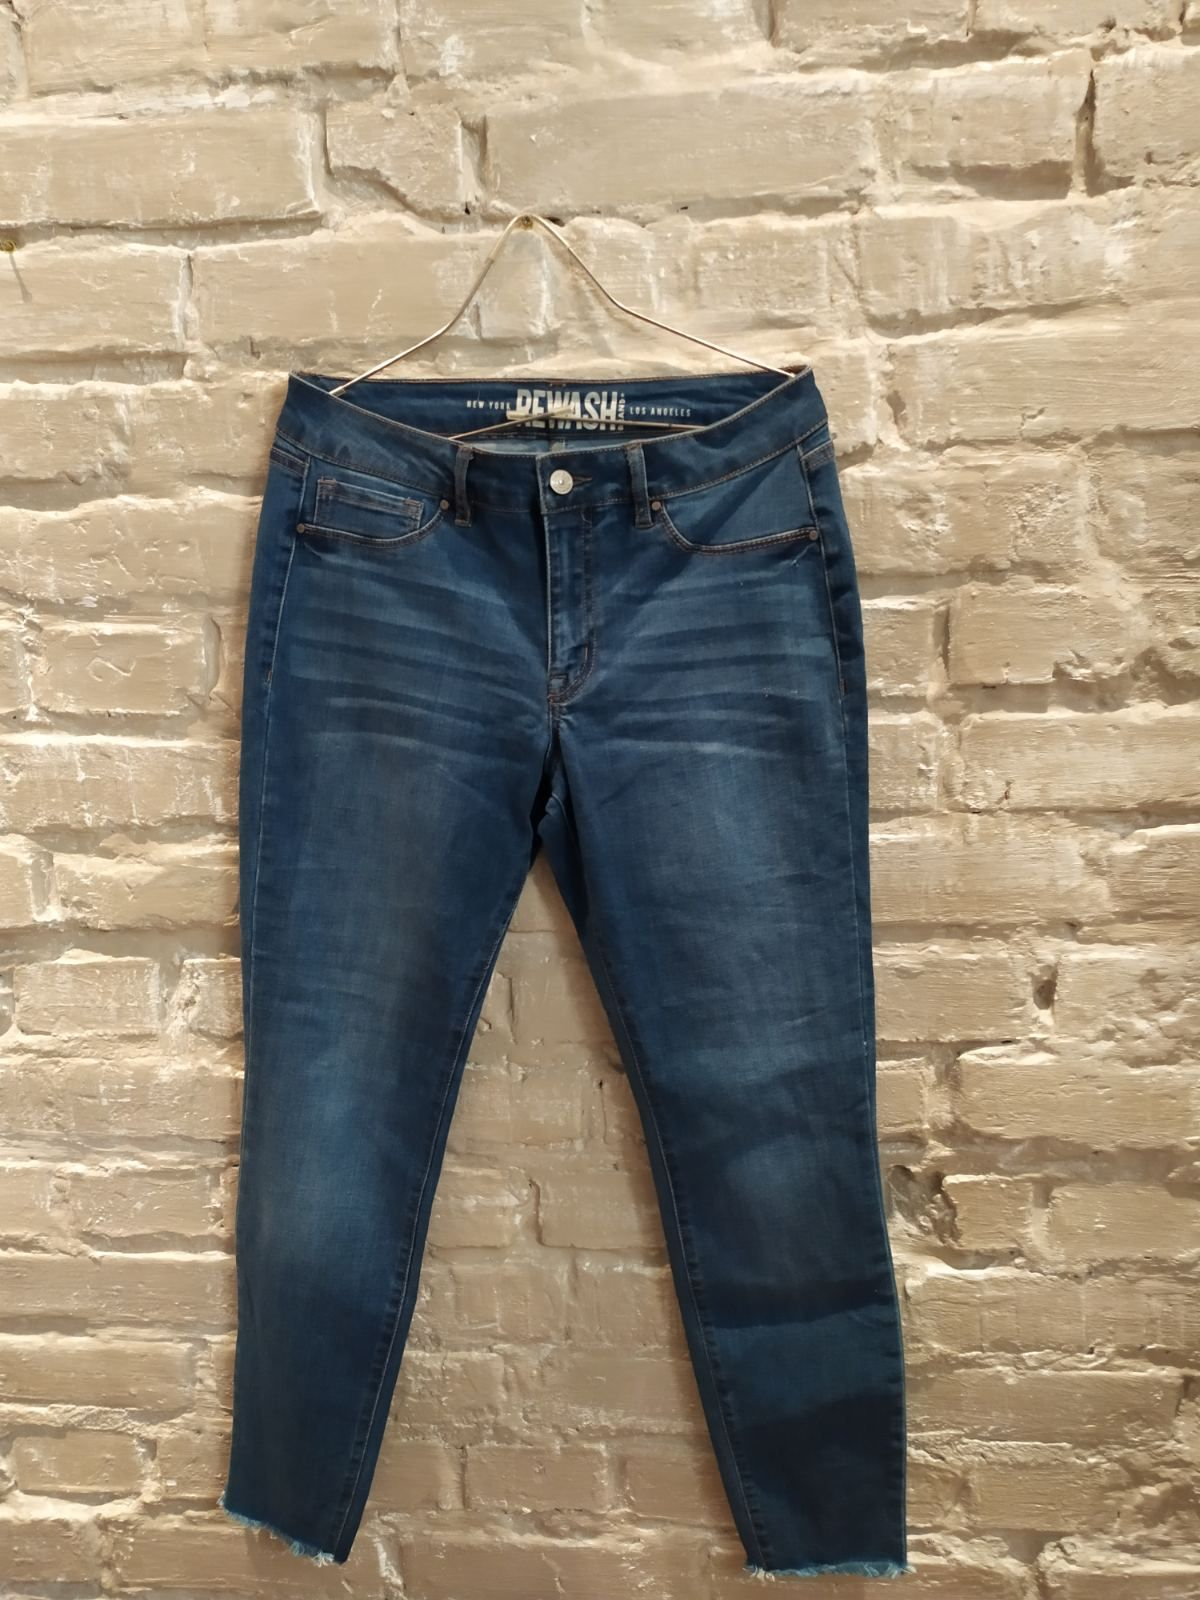clothes: (228, 350, 934, 1579)
